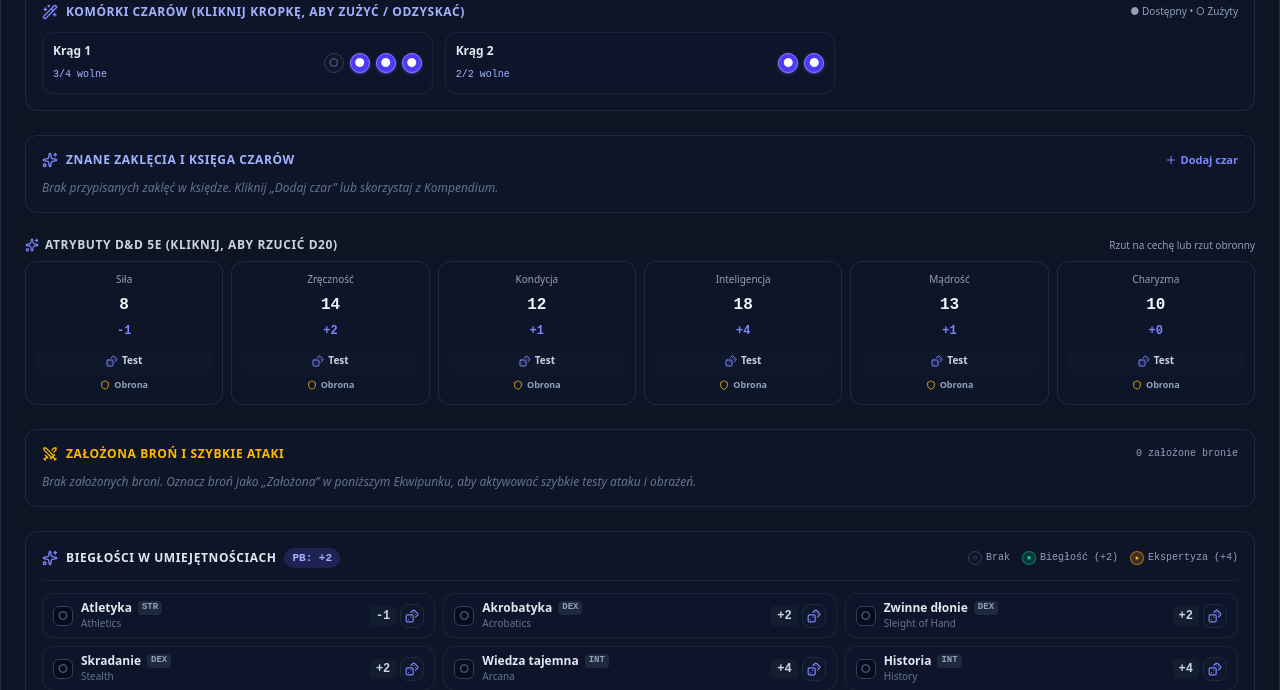
Scenario: CharacterInspectionCard Component (Chunk 3.2) › rolls d20 attribute test and saving throw on button click
(page scrolled)
// Klikamy "Test" dla Inteligencji (INT 18, modyfikator +4)
Click the button "Test" below "18": x=743, y=360 [655,349,831,372]
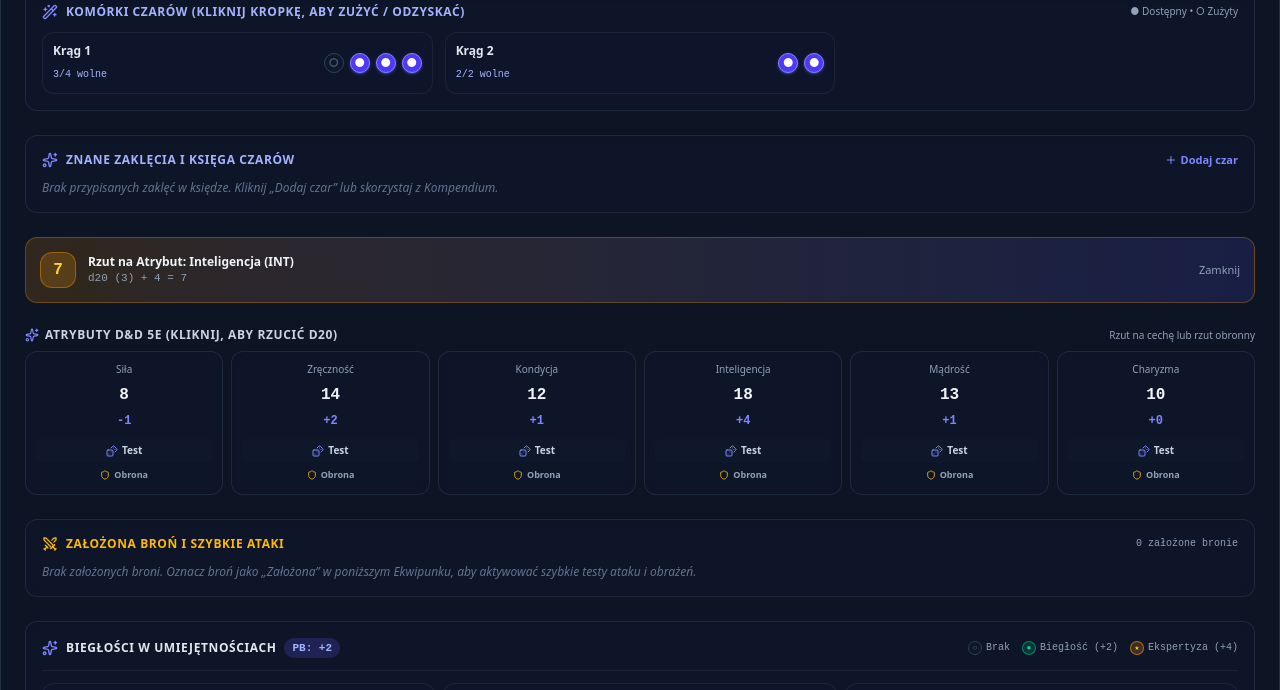
Result: the text "Rzut na Atrybut: Inteligencja (INT)" is shown at [88,254,294,270]
// Zamknięcie bannera
Click the button "Zamknij": x=1219, y=270 [1199,262,1240,278]
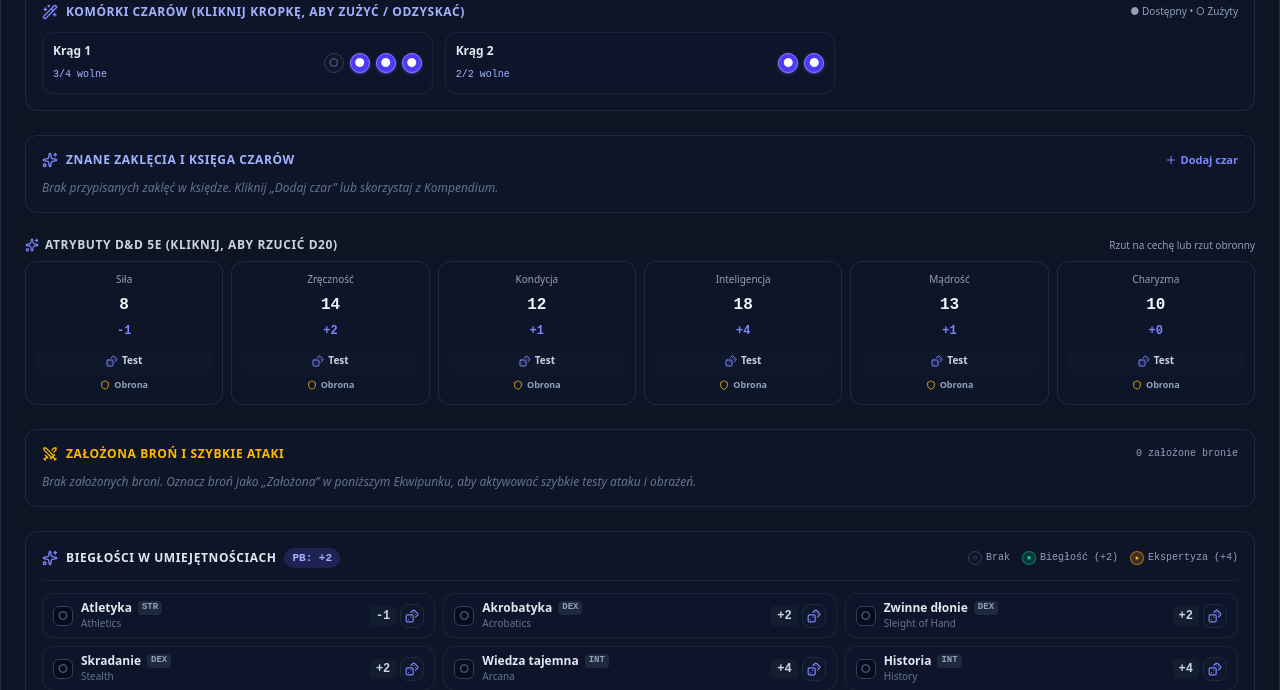
Result: the text "Rzut na Atrybut:" is gone
// Kliknięcie "Obrona"
Click the button "Obrona" below "Siła": x=124, y=385 [36,376,212,394]
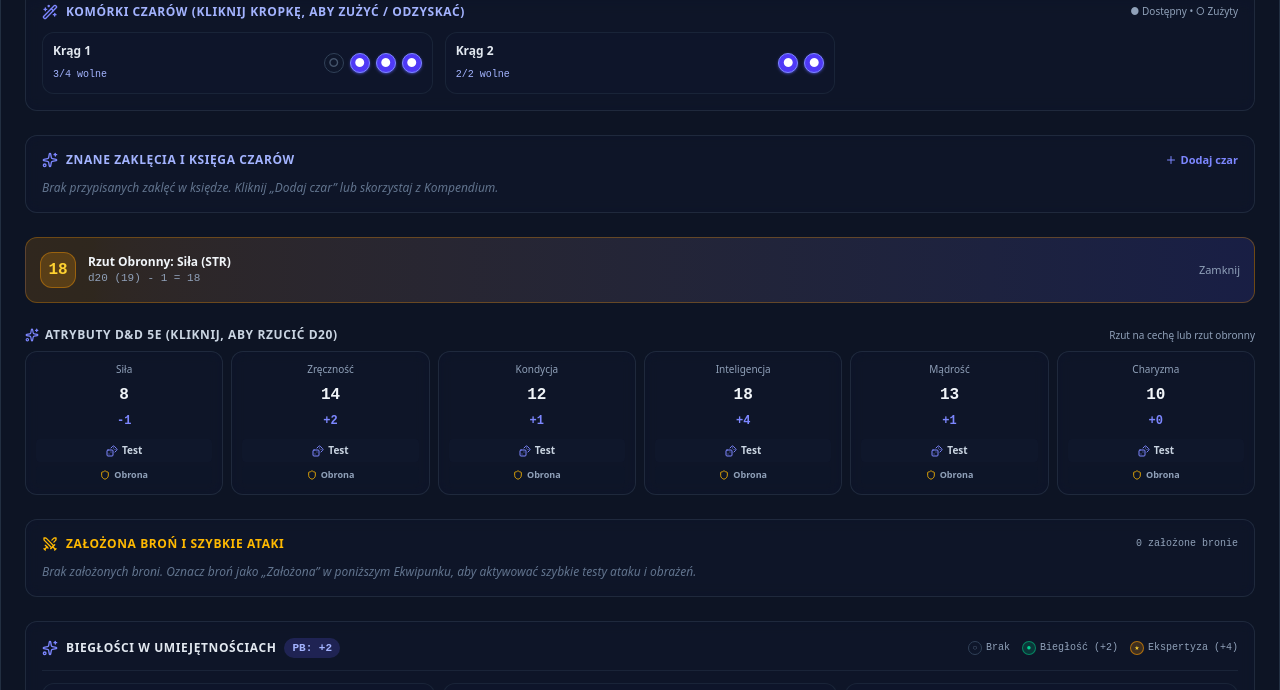
Result: the text "Rzut Obronny: Siła (STR)" is shown at [88,254,231,270]
